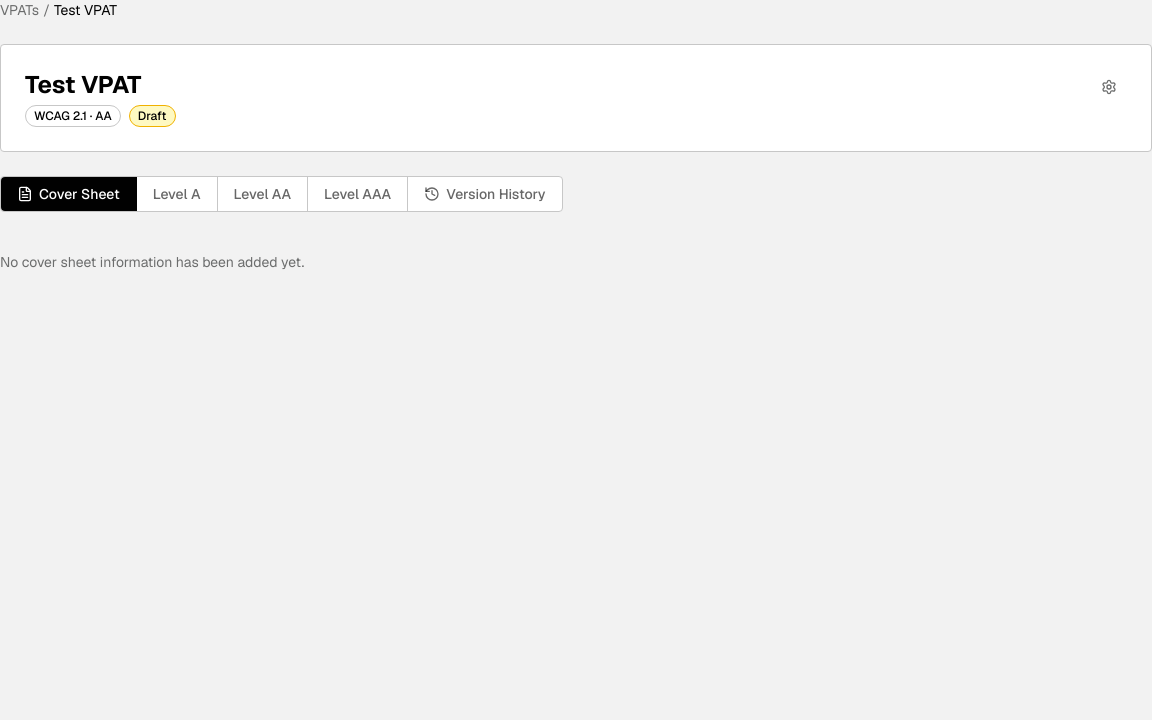
Test case: VpatDetailPage Review flow › clicking Mark as Reviewed when all evaluated shows review confirm with reviewer input
This screenshot has width=1152, height=720.
Click the button named "vpat settings" at (1109, 87), box [1091, 69, 1127, 105]
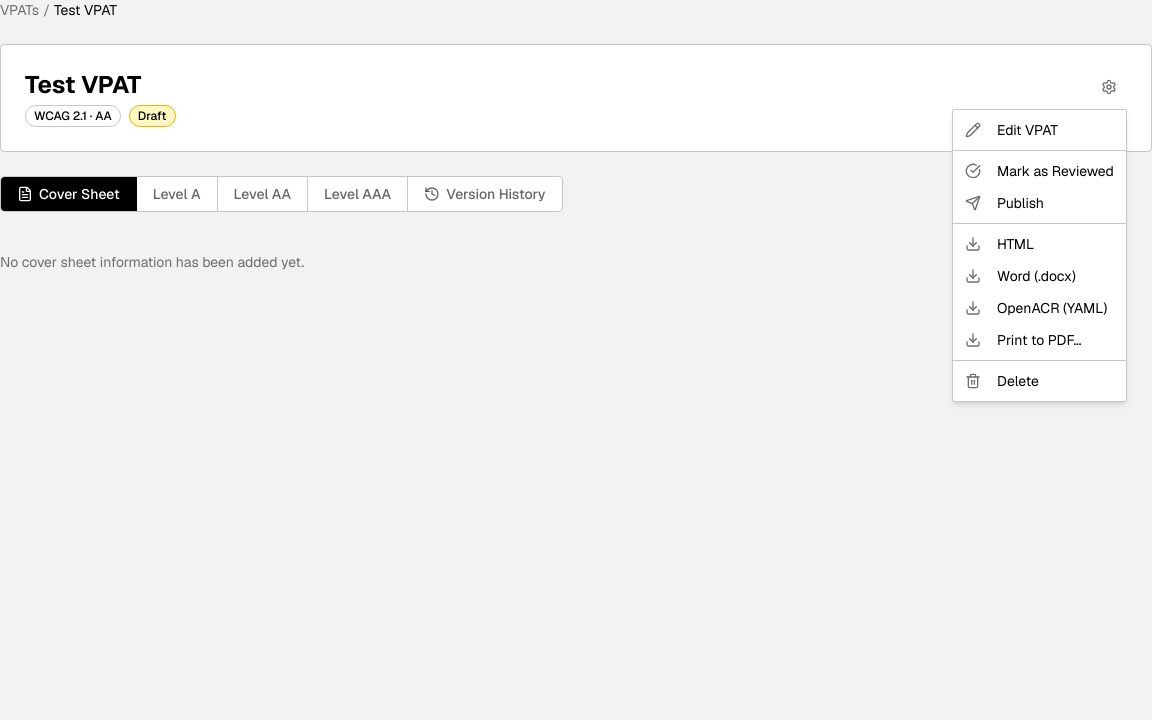
Click the menu item "Mark as Reviewed" at (1039, 171), box [965, 162, 1114, 180]
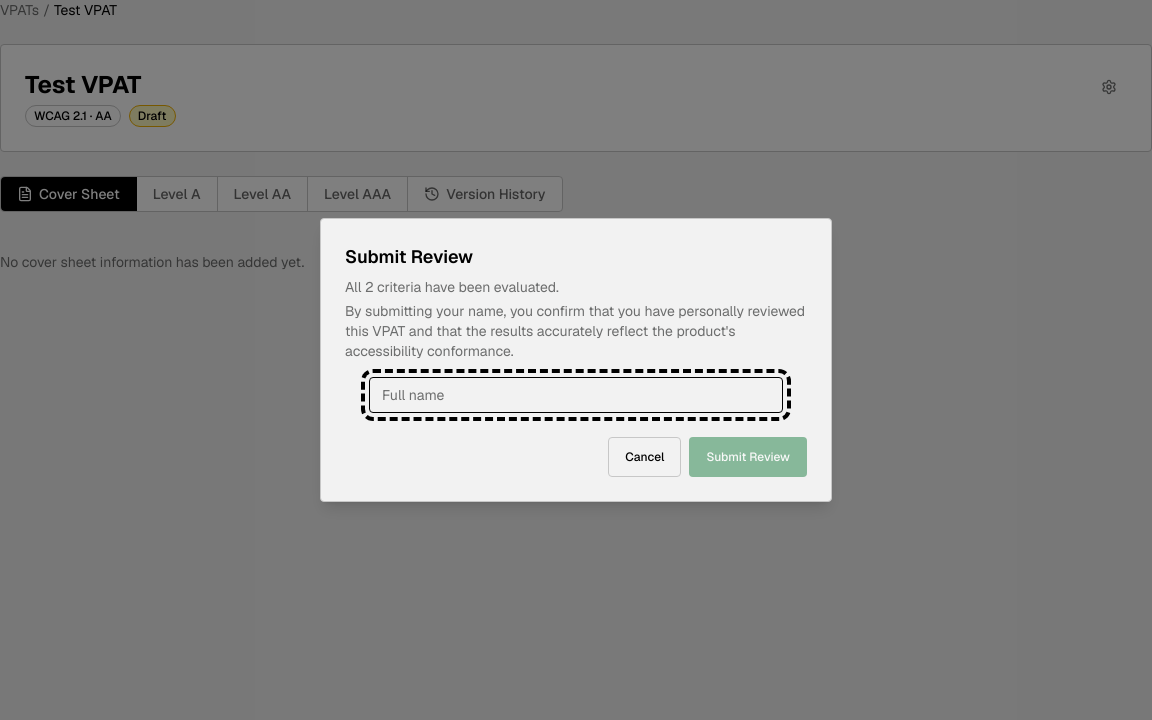
Now the dialog is shown, box [320, 218, 832, 502]
Now the field named "reviewer full name" is shown, box [369, 377, 783, 413]
